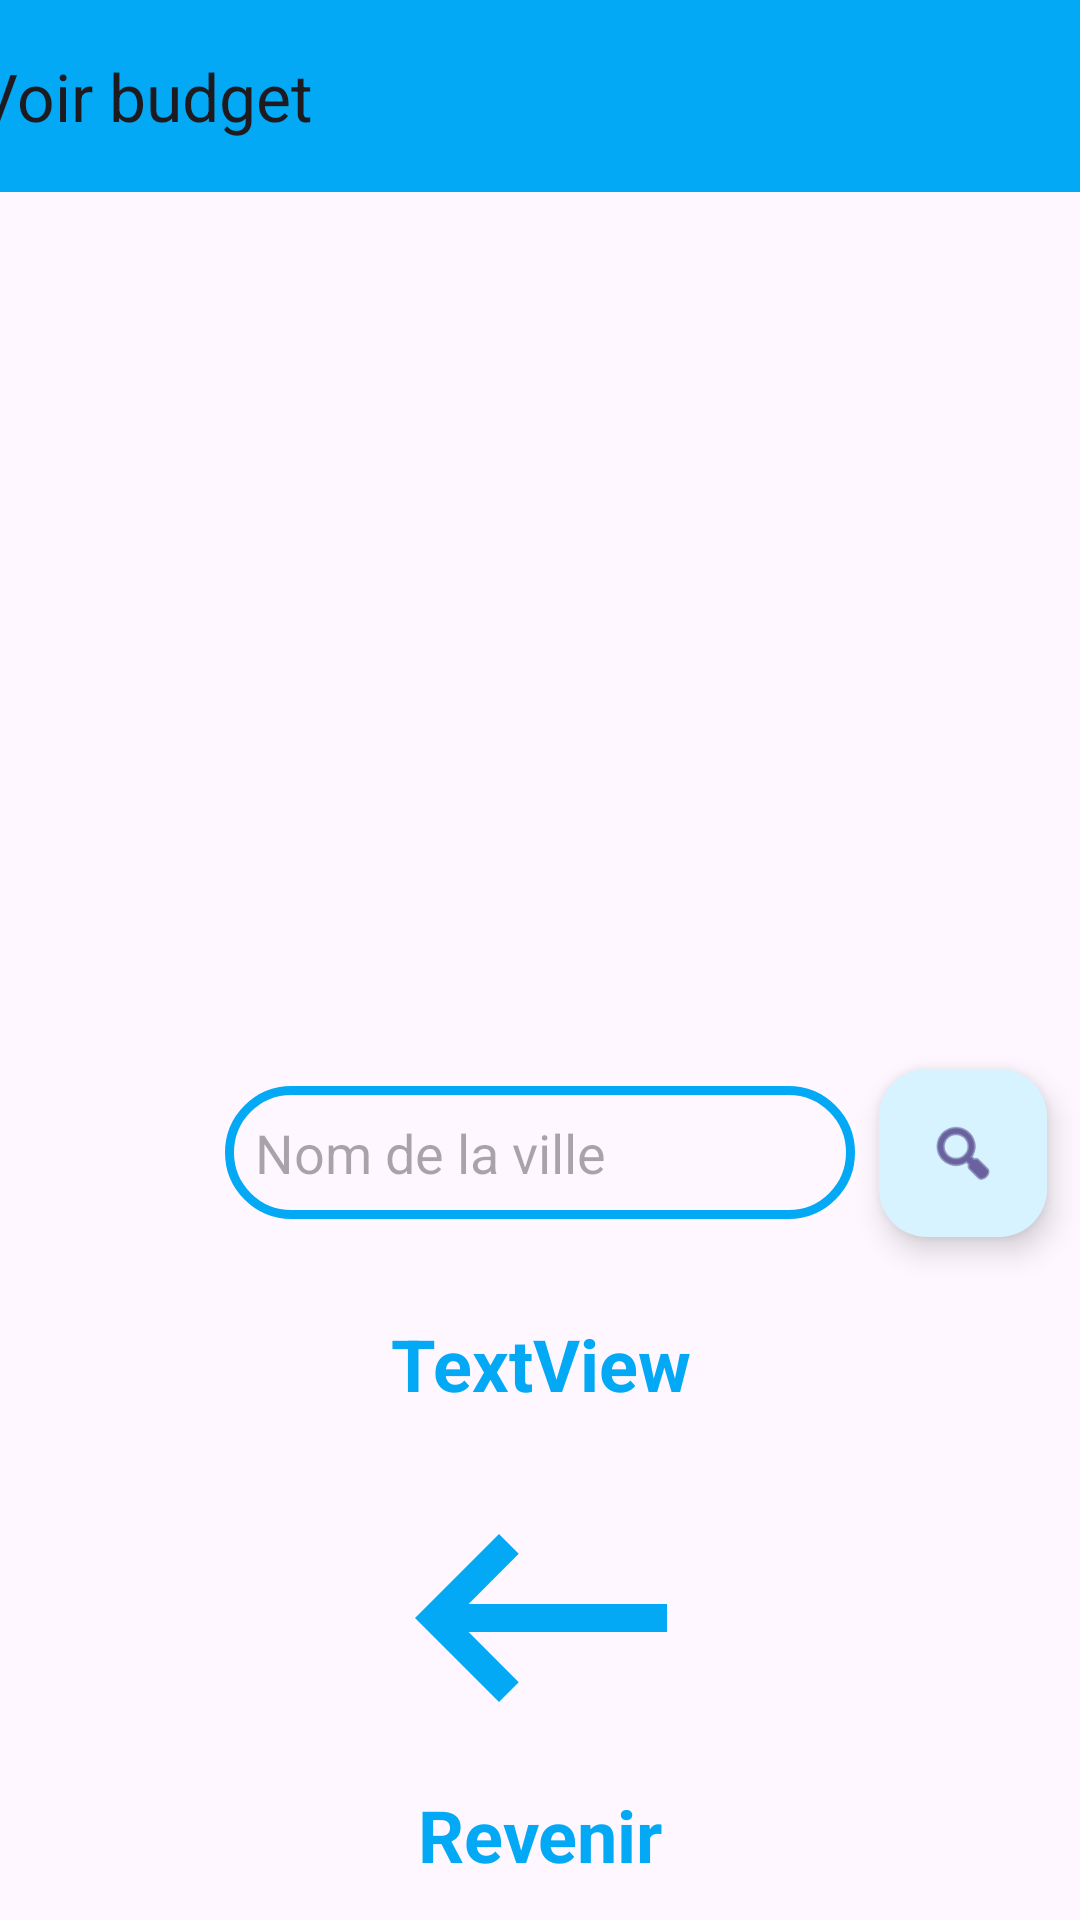

Where icons sit on this 1080×1920 app screen, as rect(x1, y1, x2, y2):
keyboard backspace: rect(415, 1534, 667, 1702)
search: rect(879, 1069, 1047, 1237)
